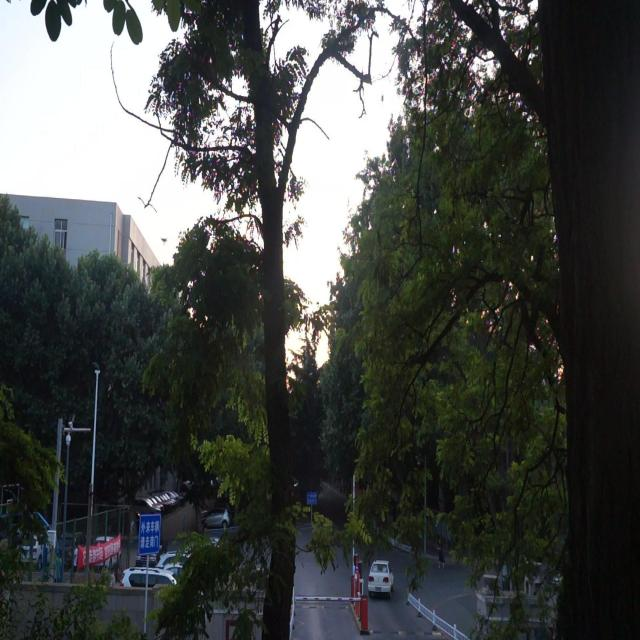UAV: (161, 238, 168, 245)
